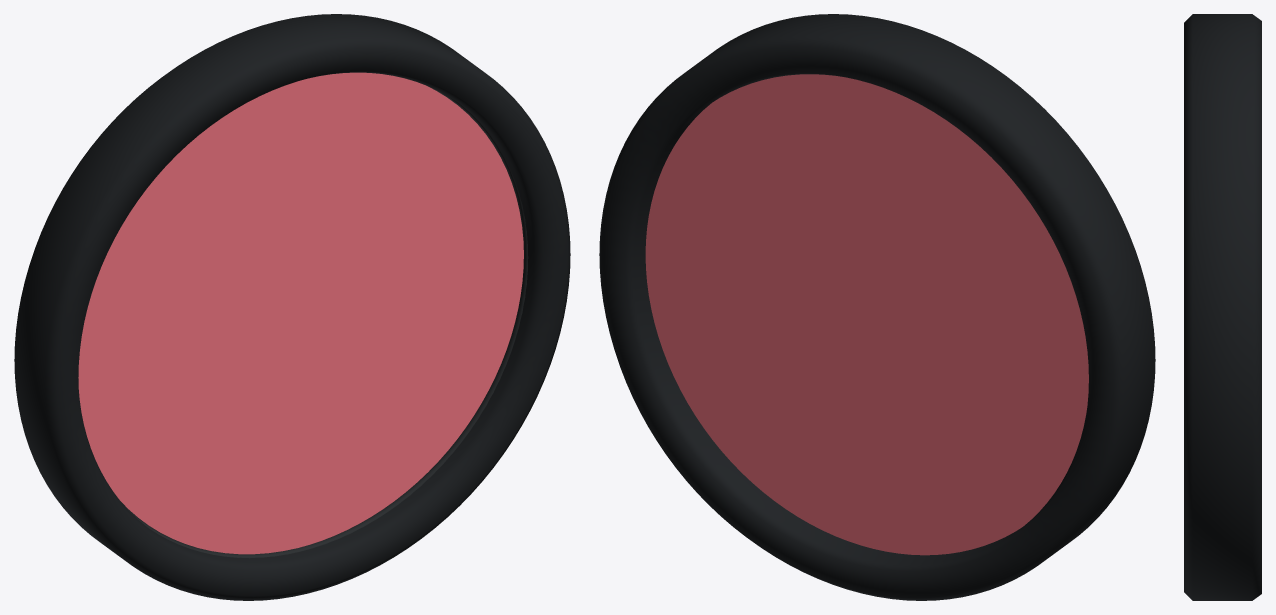
Rendered from filter_red.glb.
3 renders of one model, left to right at view 1: azimuth 30°, elevation 25°; view 2: azimuth 150°, elevation 25°; view 3: azimuth 270°, elevation 25°, orthographic. The views are drawn at different scales.
Visible parts, largest first — view 1: Filter_Red_OpticalElement, Filter_Red_Frame, Filter_Red_RetainingRim; view 2: Filter_Red_OpticalElement, Filter_Red_Frame; view 3: Filter_Red_Frame.
Boxes of the visible parts, <box> form: Filter_Red_OpticalElement: <box>78,72,523,554</box>; Filter_Red_Frame: <box>14,14,570,600</box>; Filter_Red_RetainingRim: <box>121,85,528,558</box>; Filter_Red_OpticalElement: <box>645,74,1088,555</box>; Filter_Red_Frame: <box>599,14,1155,600</box>; Filter_Red_Frame: <box>1184,14,1261,600</box>.
Size of the model in its own units: 0.068 by 0.068 by 0.009.
